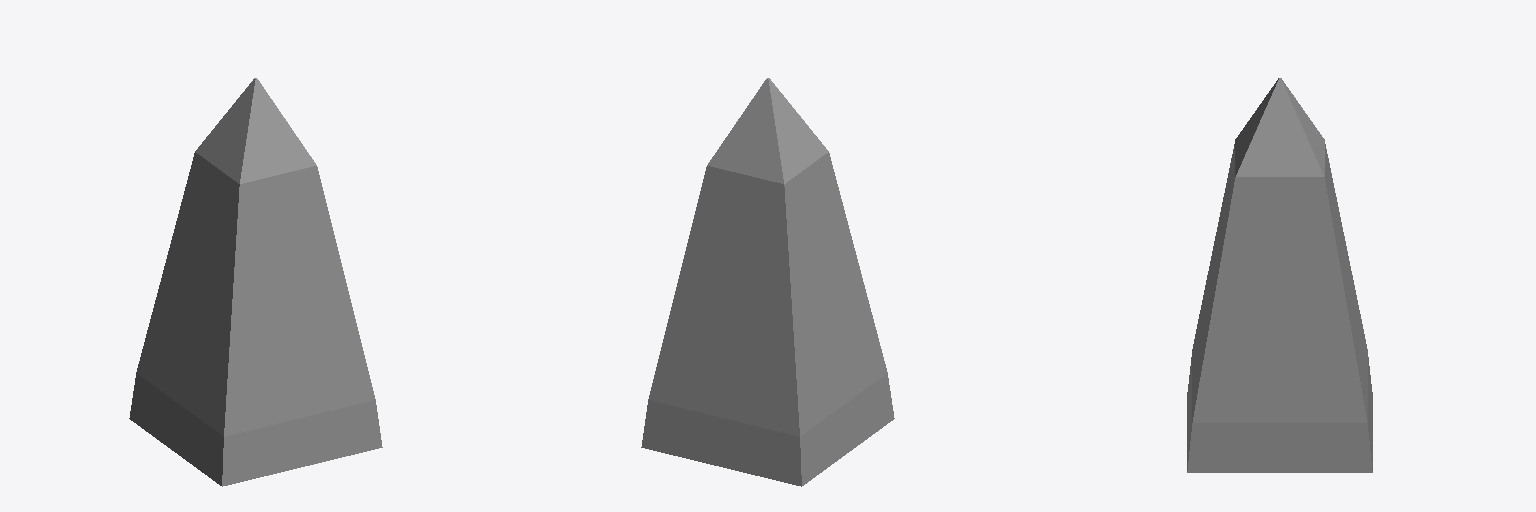
File: obelisk.obj
3 renders of one model, left to right at view 1: azimuth 30°, elevation 25°; view 2: azimuth 150°, elevation 25°; view 3: azimuth 270°, elevation 25°, orthographic.
Parts seen in each view (by area): view 1: Cube; view 2: Cube; view 3: Cube.
Part boxes in pixels (left/top/right/bottom): Cube: left=129, top=78, right=382, bottom=486; Cube: left=641, top=78, right=894, bottom=486; Cube: left=1187, top=78, right=1372, bottom=472.
Bounding box in the file's own units: 1 × 2.11 × 1.